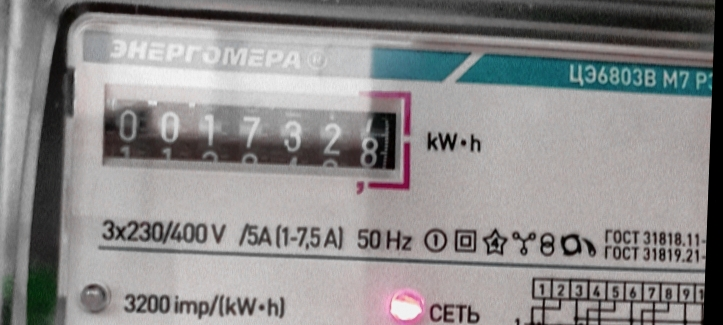0: (117, 106, 141, 144), (159, 110, 180, 144)
1: (202, 111, 218, 148)
2: (320, 121, 342, 158)
3: (280, 118, 304, 154)
7: (238, 112, 263, 151)
8: (358, 134, 379, 169)
screen: (91, 80, 417, 193)
